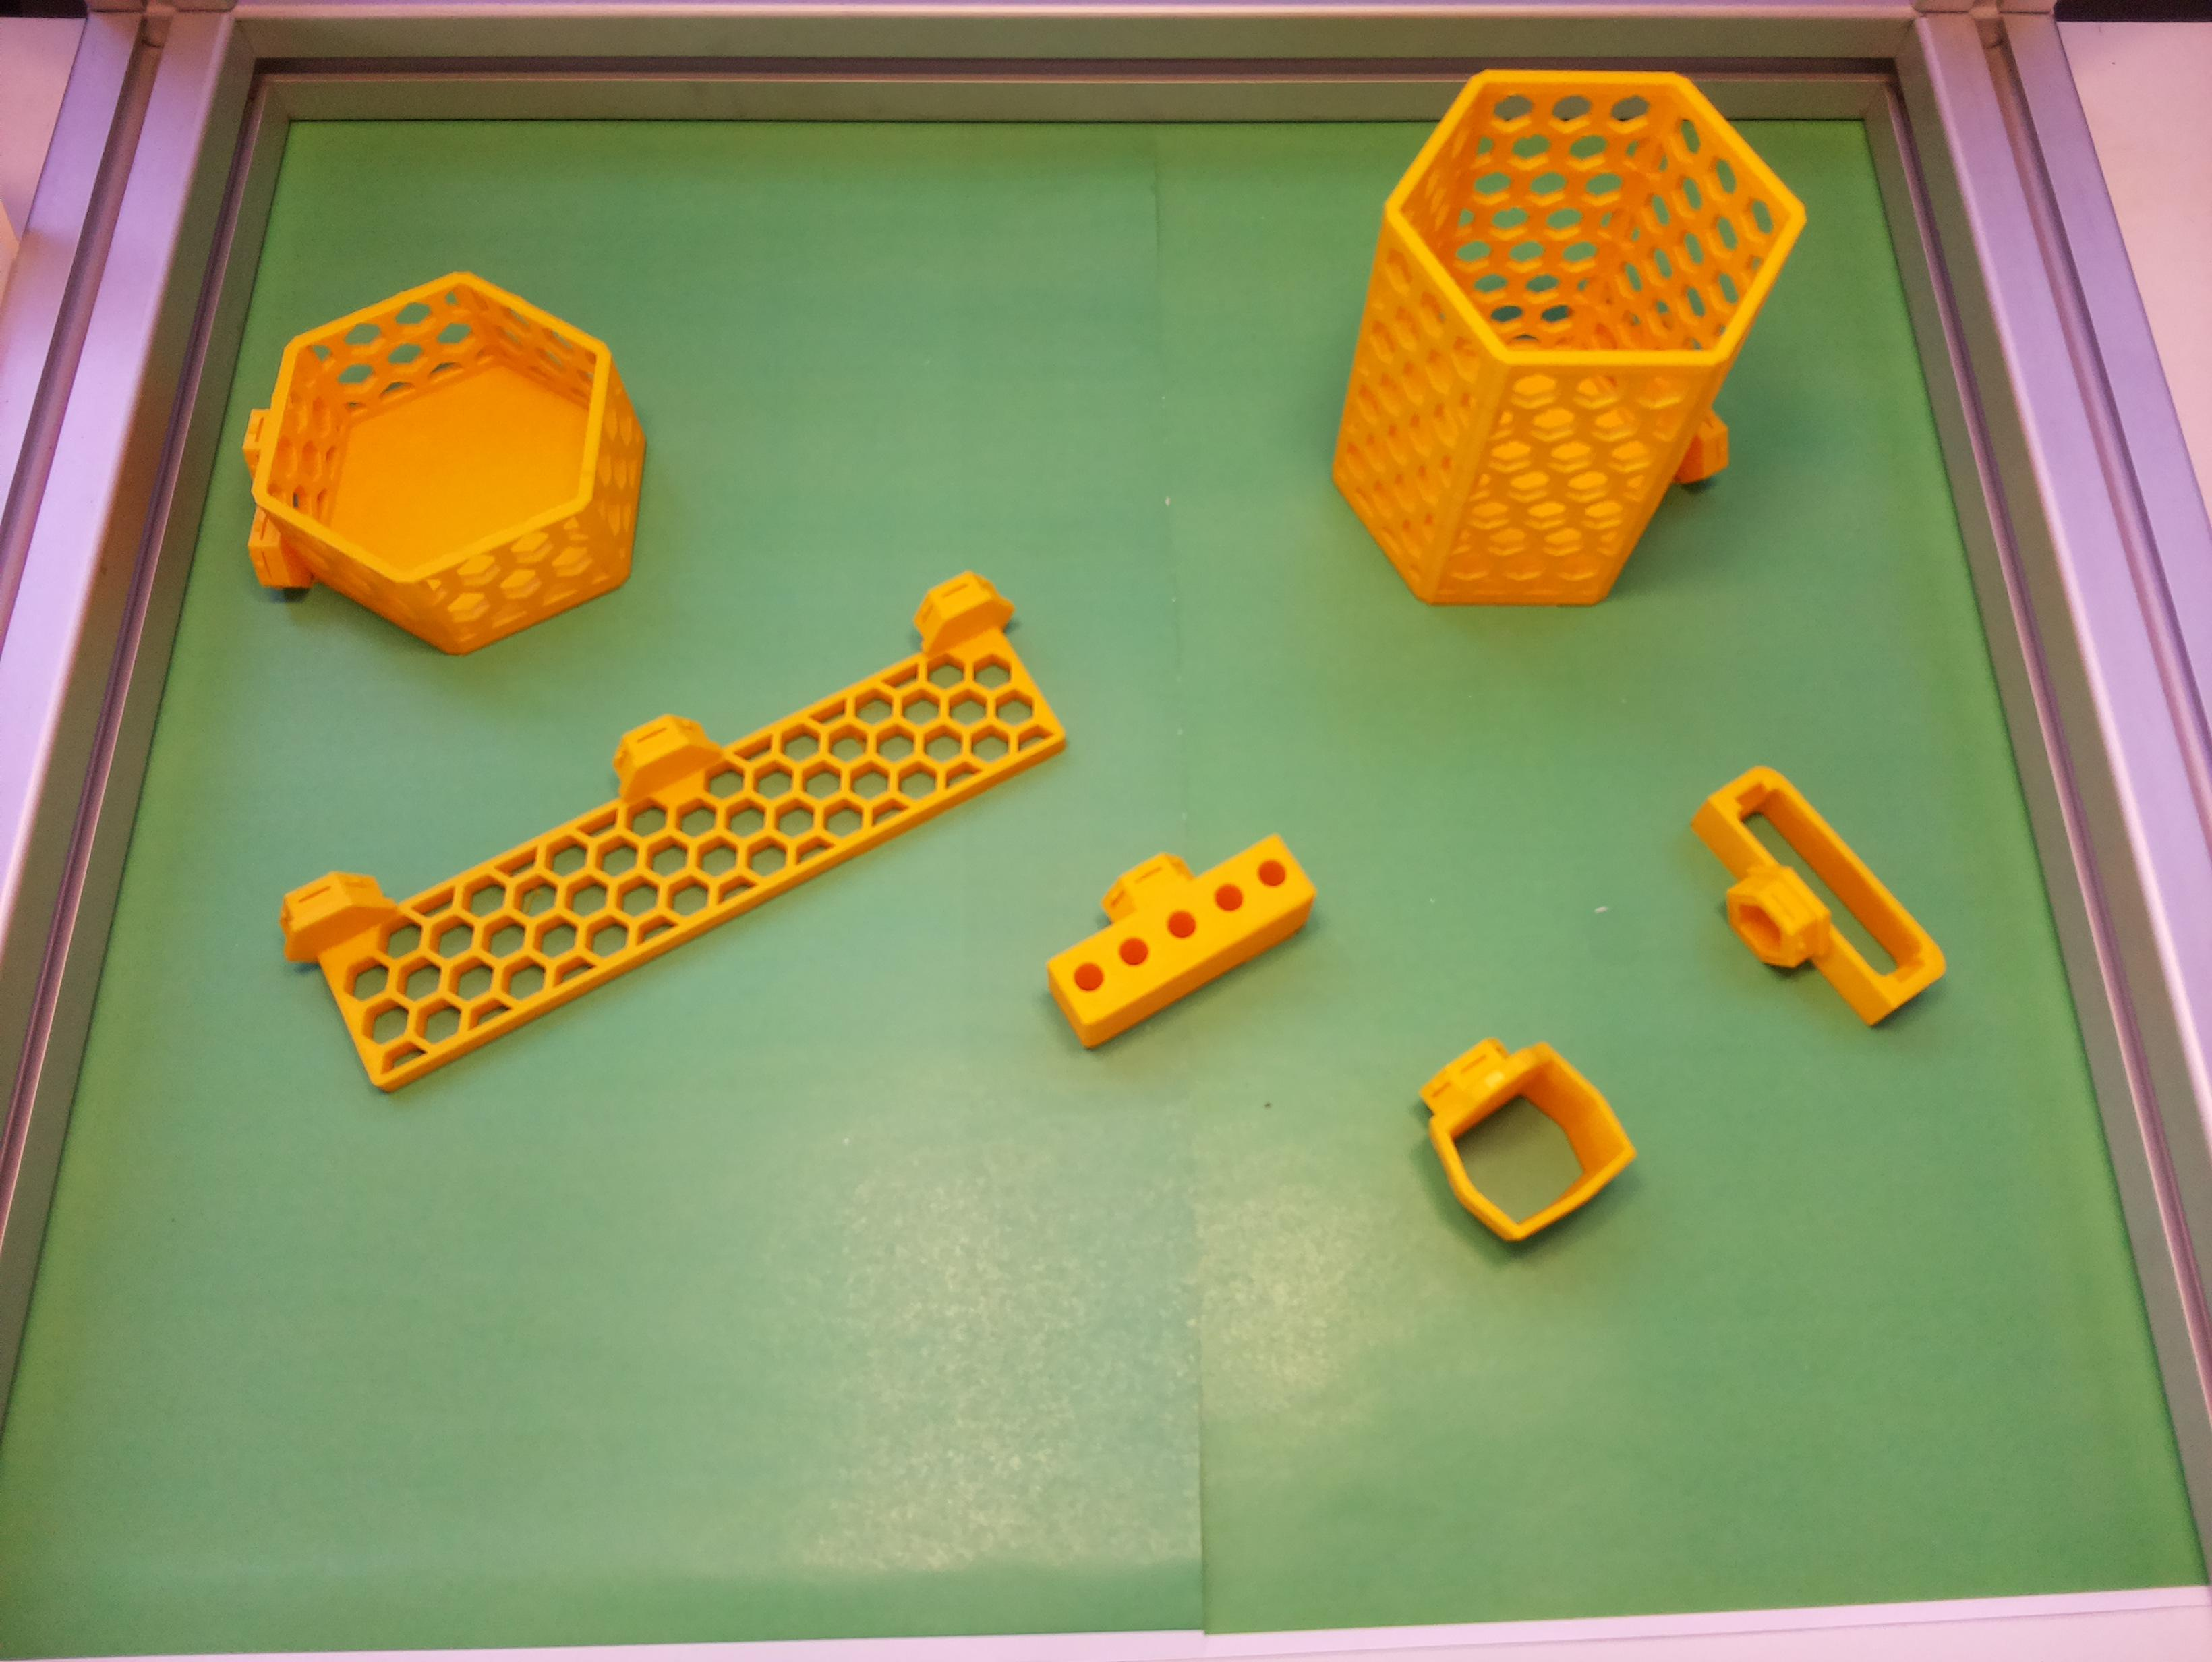bit_holder: (1018, 796, 1329, 1051)
bottle_holder: (180, 230, 693, 714)
cutter_holder: (1657, 751, 1954, 1058)
scissor_holder: (1391, 1002, 1648, 1260)
tool_holder: (260, 541, 1082, 1107)
